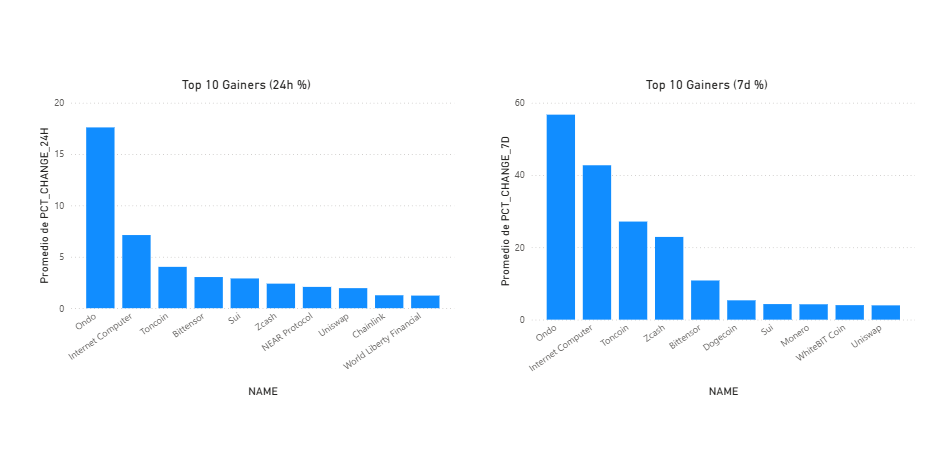

This screenshot's page, from the dashboard's own definition file:
{"tool":"powerbi","page":{"name":"Top Movers","canvas":[1280,720],"ordinal":1},"visuals":[{"type":"clusteredColumnChart","title":"Top 10 Gainers (24h %)","fields":{"Category":["VW_GOLD_TOP_MOVERS.NAME"],"Y":["Avg(VW_GOLD_TOP_MOVERS.PCT_CHANGE_24H)"]},"box":[65.7,148.6,554.3,422.9],"z":0},{"type":"clusteredColumnChart","title":"Top 10 Gainers (7d %)","fields":{"Category":["VW_GOLD_TOP_MOVERS.NAME"],"Y":["Avg(VW_GOLD_TOP_MOVERS.PCT_CHANGE_7D)"]},"box":[668.6,148.6,554.3,422.9],"z":1000}]}

Visuals, with their boxes on the page's 1280x720 design canvas (x1, y1, x2, y2). These are canvas units, not pixel positions in the 946x475 screenshot, which may show the page scaled, cropped or inside an application window:
"Top 10 Gainers (24h %)" clusteredColumnChart: bbox=[66, 149, 620, 572]
"Top 10 Gainers (7d %)" clusteredColumnChart: bbox=[669, 149, 1223, 572]
